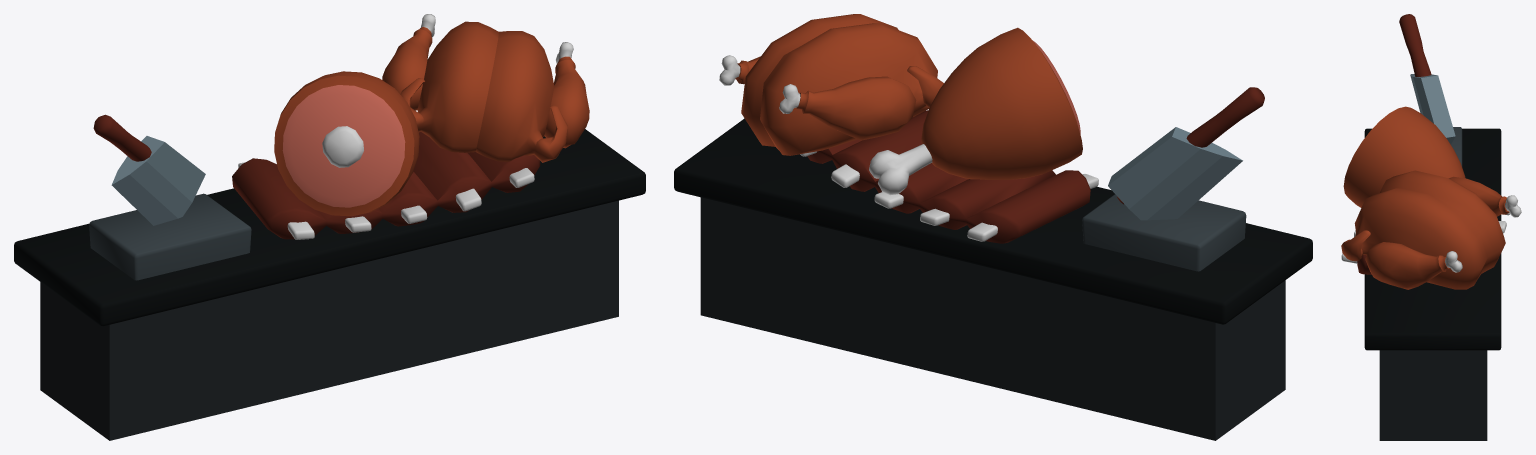
Rendered from butchertable.obj.
3 renders of one model, left to right at view 1: azimuth 30°, elevation 25°; view 2: azimuth 150°, elevation 25°; view 3: azimuth 270°, elevation 25°, orthographic. The views are drawn at different scales.
Visible parts, largest first — view 1: butchertable_Cube.6067; view 2: butchertable_Cube.6067; view 3: butchertable_Cube.6067.
Boxes of the visible parts, left/top/right/bottom form: butchertable_Cube.6067: left=14, top=14, right=645, bottom=440; butchertable_Cube.6067: left=674, top=14, right=1312, bottom=440; butchertable_Cube.6067: left=1341, top=14, right=1521, bottom=440.
Bounding box in the file's own units: 2.54 × 1.37 × 0.9377.
